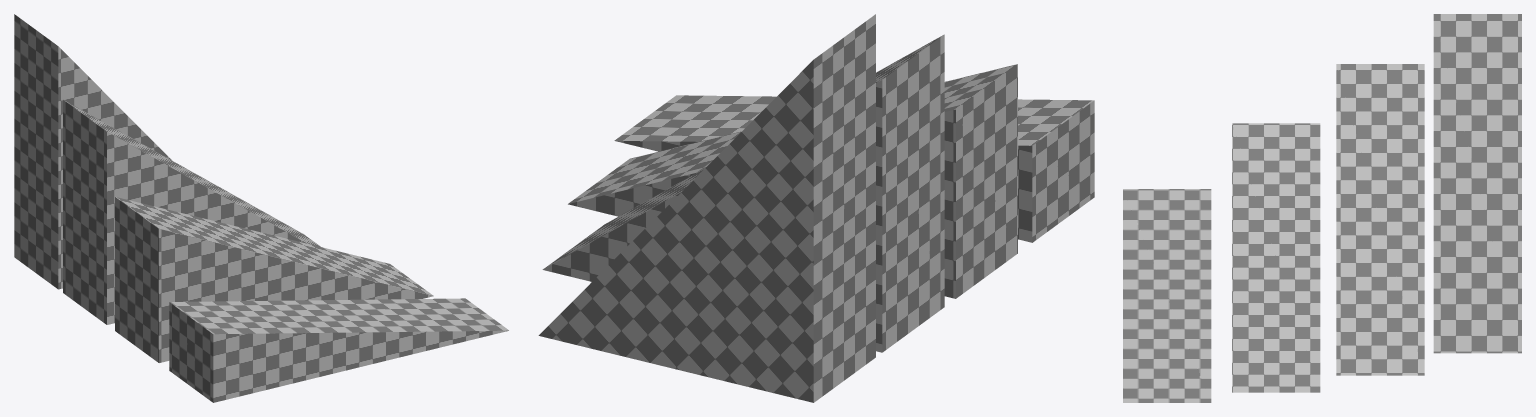
The model's file is Rampas.obj.
The picture shows the model from 3 angles, left to right: view 1: azimuth 30°, elevation 25°; view 2: azimuth 150°, elevation 25°; view 3: azimuth 270°, elevation 25°; orthographic projection. The views are drawn at different scales.
Visible parts, largest first — view 1: Plane; view 2: Plane; view 3: Plane.
Part boxes in pixels (x1,y1,x2,y2): Plane: [14, 14, 508, 402]; Plane: [538, 14, 1094, 402]; Plane: [1123, 14, 1521, 402].
Bounding box in the file's own units: 15.54 × 12.19 × 18.07.
